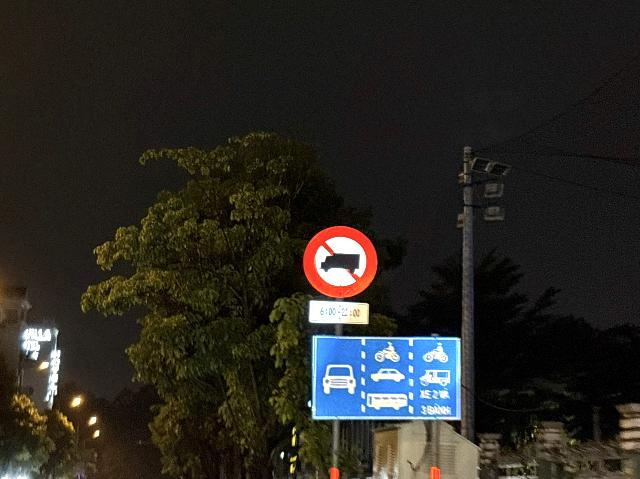cam-xe-tai: (304, 226, 378, 298)
